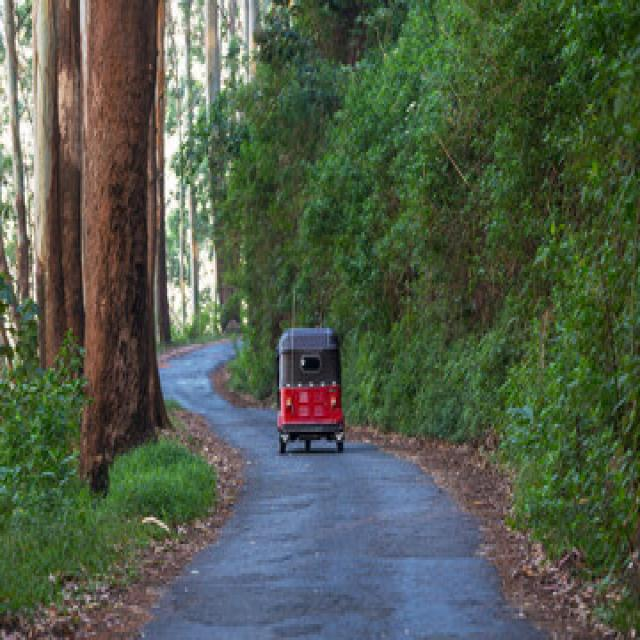three wheeler: (277, 328, 343, 453)
